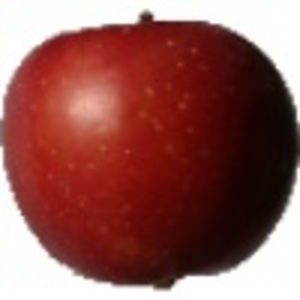maçã braeburn: (1, 12, 299, 289)
